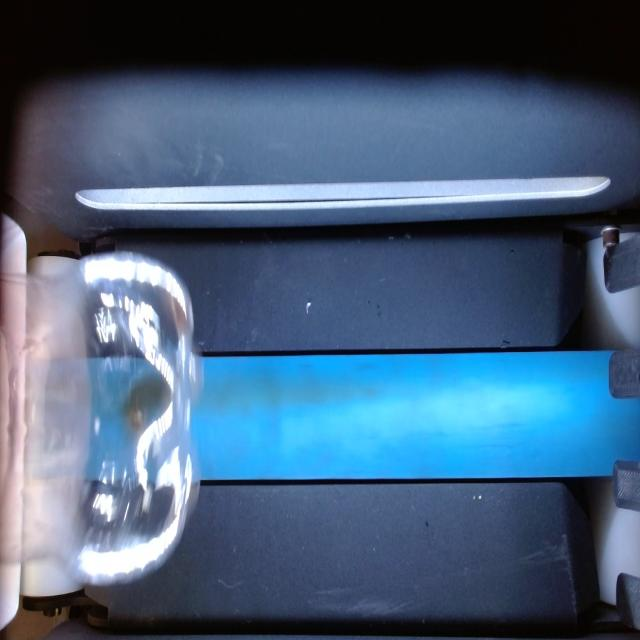bottom: (0, 253, 199, 606)
